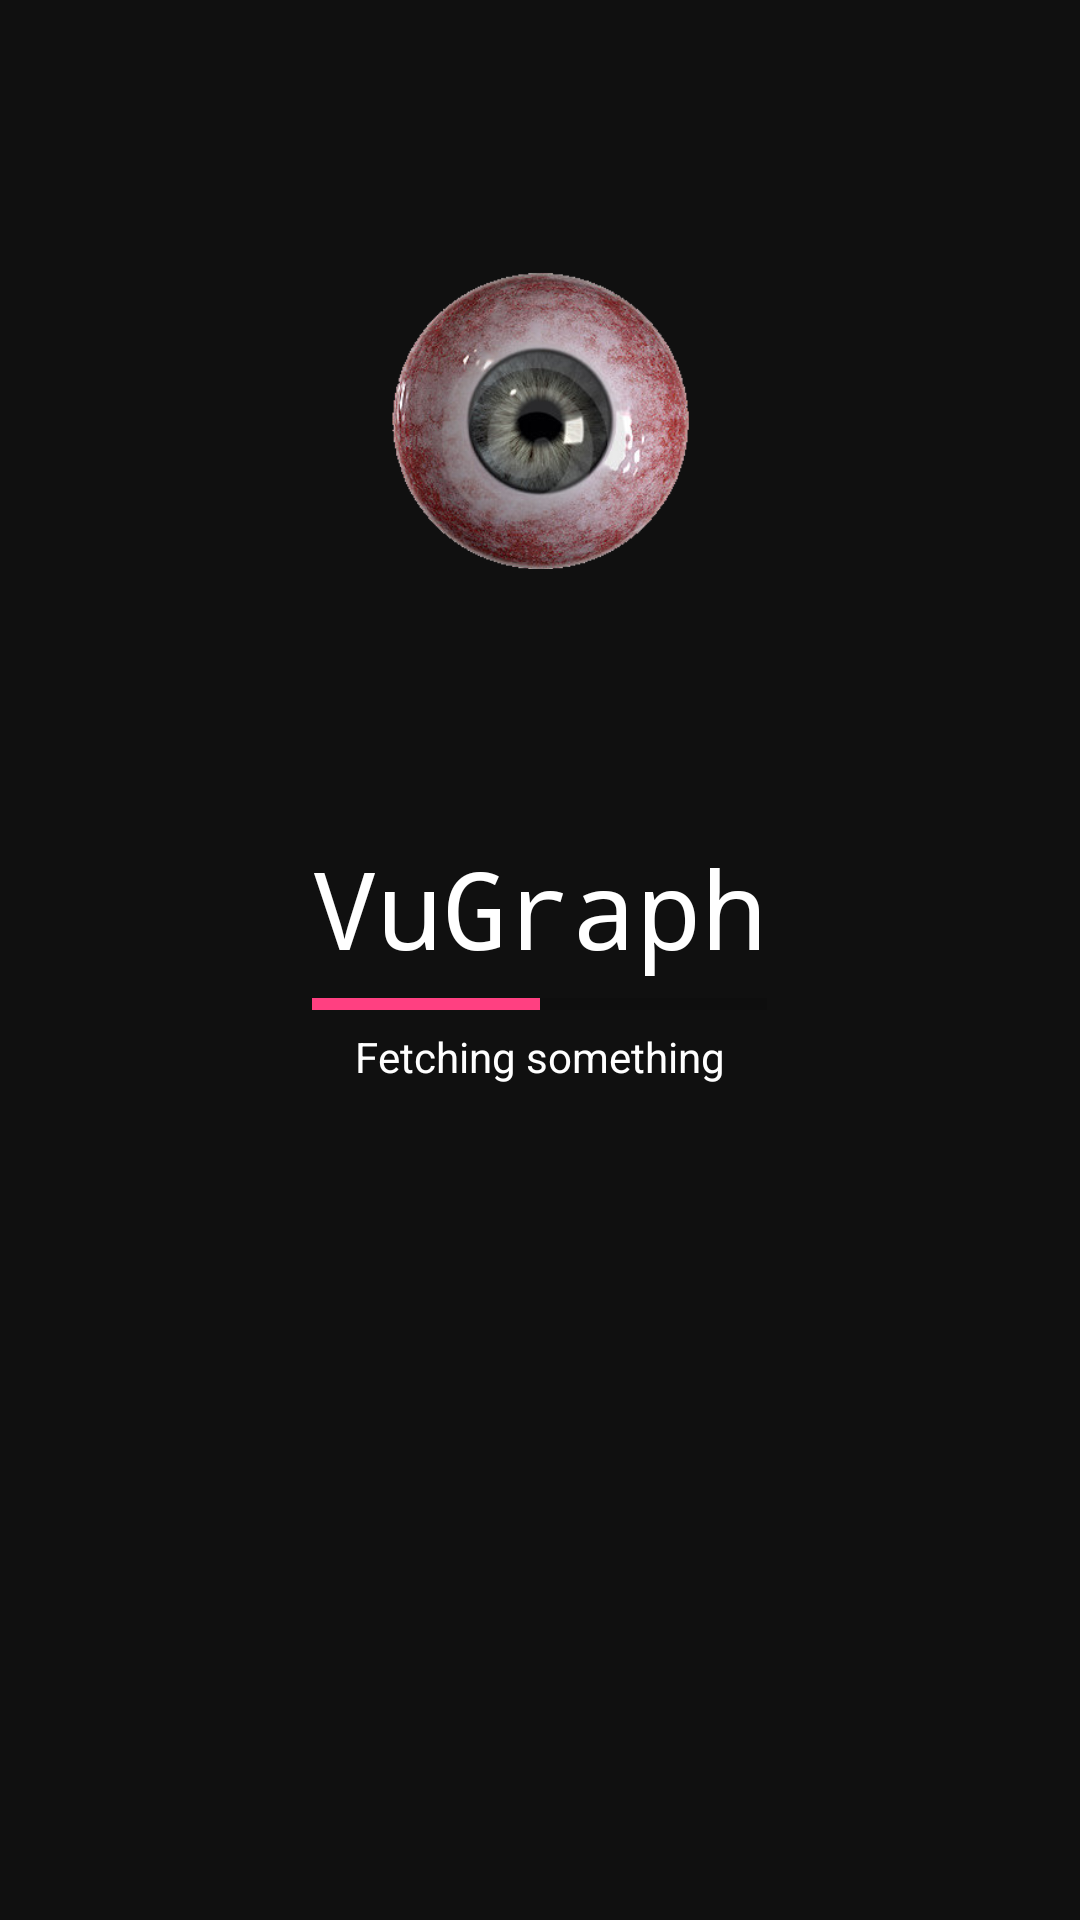

Named icons in this screenshot (1080×1920) and their bounding boxes, (x1,y1,x2,y2):
eyeball: (392,273,689,569)
